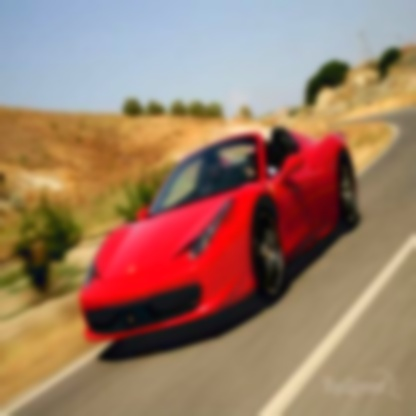Vehicle: (71, 122, 363, 341)
